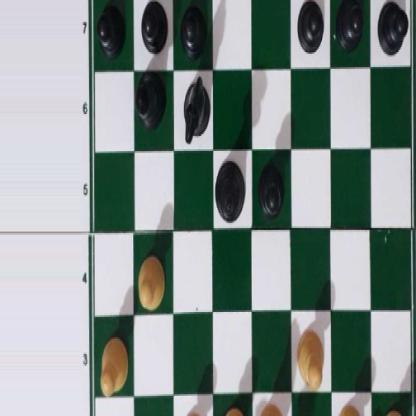black-bishop: (134, 70, 167, 129)
black-knight: (182, 72, 209, 138)
black-pawn: (256, 159, 285, 218), (377, 0, 407, 55), (97, 0, 125, 54), (140, 0, 167, 54), (296, 0, 324, 52), (180, 0, 206, 55), (335, 0, 363, 49)
black-queen: (215, 158, 244, 221)
white-knight: (257, 399, 287, 416)
white-pawn: (135, 250, 166, 310), (295, 325, 324, 389), (98, 335, 128, 396), (335, 401, 366, 416), (220, 404, 247, 416), (380, 406, 410, 416), (179, 408, 207, 416)
